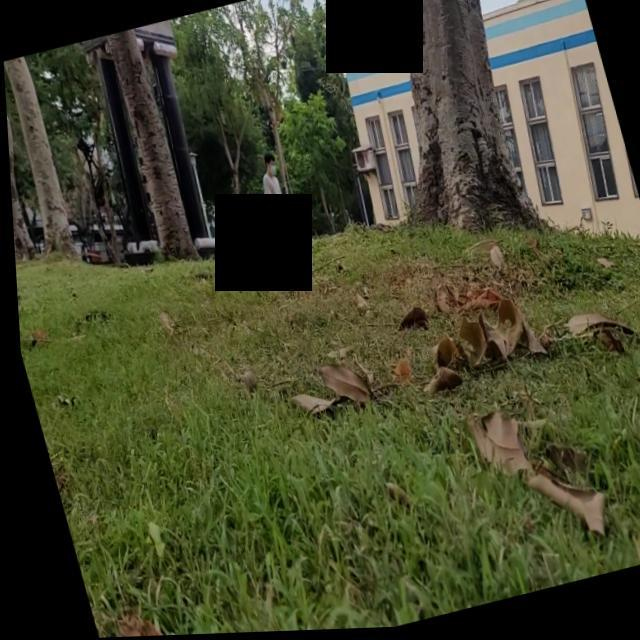Tree: (335, 1, 542, 240), (97, 28, 202, 280), (4, 55, 82, 273), (4, 63, 47, 275)
